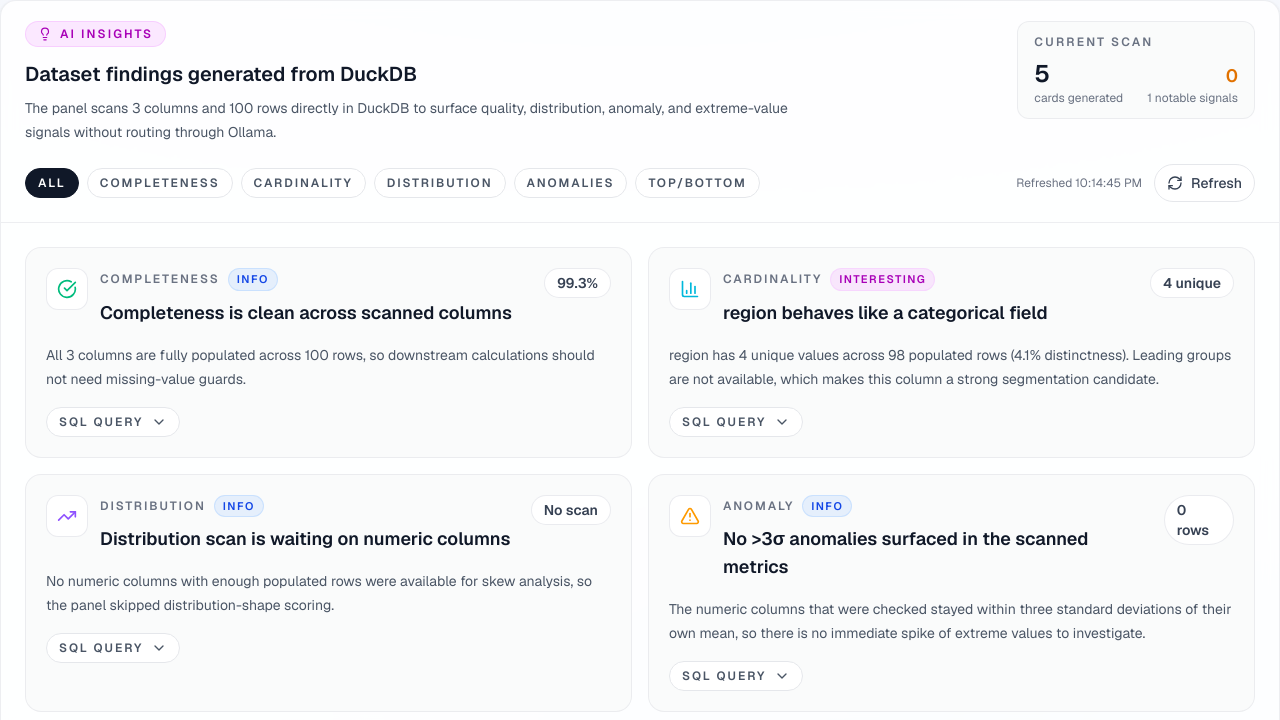
Test case: AIInsights › filters the visible insight cards by category
Expected: the heading "region behaves like a categorical field" is shown, left=723, top=298, right=1048, bottom=326
Click the button "Completeness". click: click(160, 183)
box: left=87, top=168, right=233, bottom=198
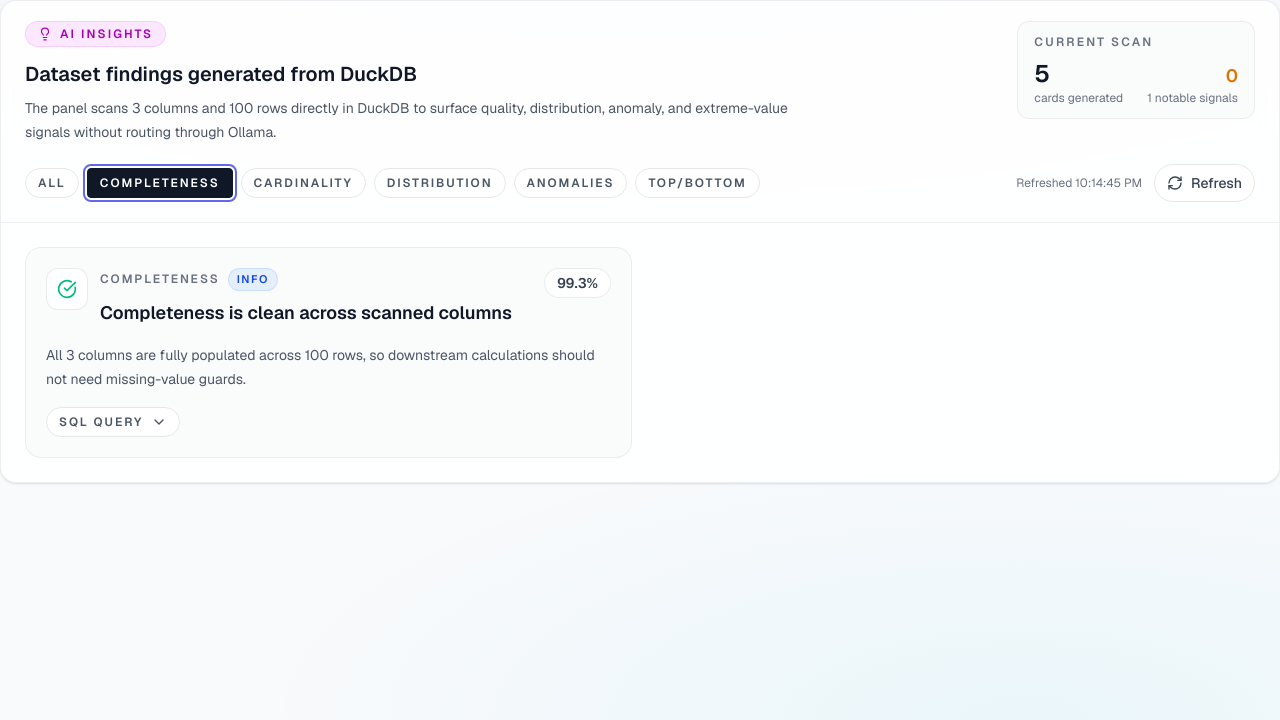
Expected: the heading "Completeness is clean across scanned columns" is shown, left=100, top=298, right=512, bottom=326
Now the heading "region behaves like a categorical field" is gone
